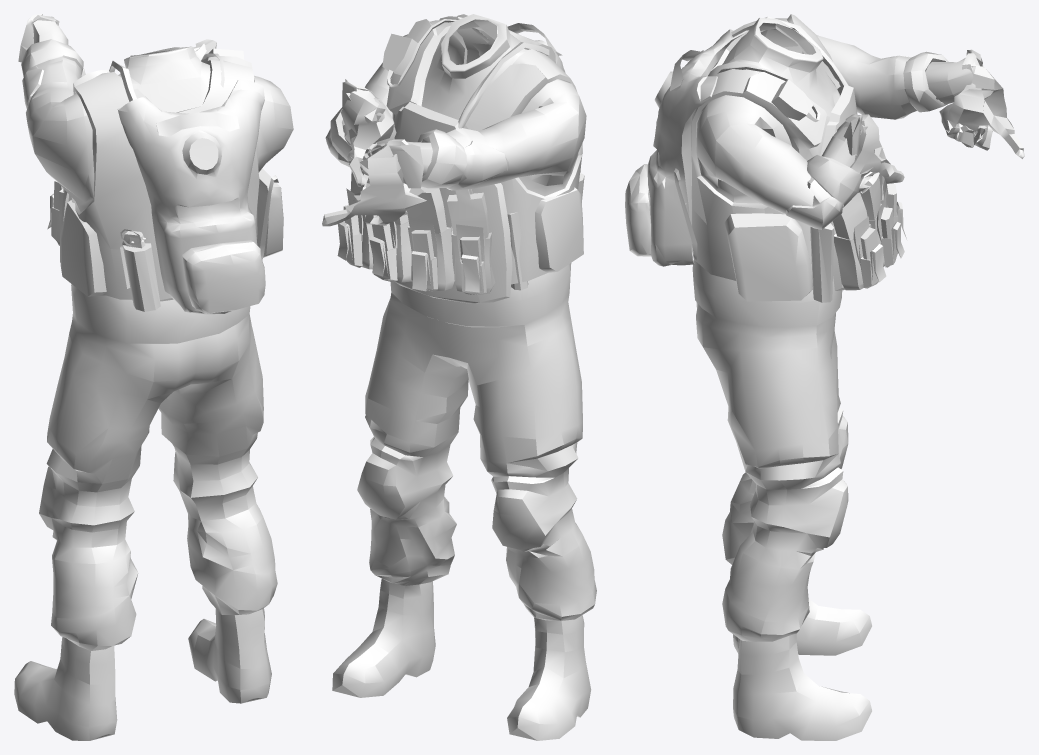
The model's file is stf_p90.glb.
3 renders of one model, left to right at view 1: azimuth 30°, elevation 25°; view 2: azimuth 150°, elevation 25°; view 3: azimuth 270°, elevation 25°, orthographic.
Visible parts, largest first — view 1: body_STF, gear_STF; view 2: body_STF, gear_STF; view 3: body_STF, gear_STF.
Boxes of the visible parts, x1,y1,x2,y2 form: body_STF: (14, 14, 293, 740); gear_STF: (47, 48, 283, 314); body_STF: (322, 14, 596, 740); gear_STF: (337, 14, 584, 294); body_STF: (685, 14, 1024, 740); gear_STF: (625, 16, 906, 302).
Size of the model in its own units: 62.01 by 164 by 89.54.
Materials: 2 (2 with a texture image).
